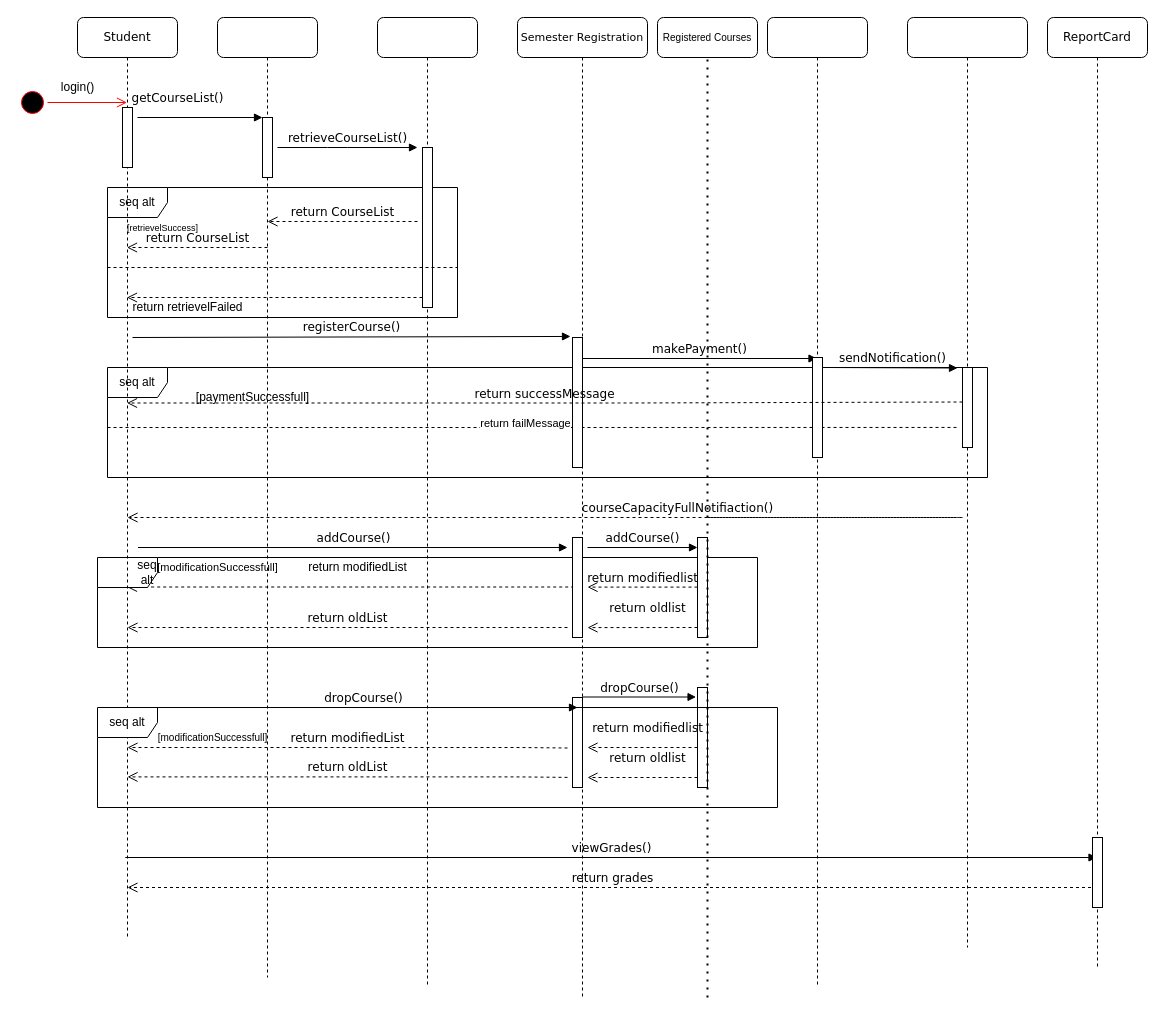
Some shapes in this 1165 by 1017 pixel diagram are drawn without their labels. Here are the shapes that lost their labels. From the top down, the box of each, then its label:
(216, 16, 318, 978): Courses
(376, 16, 478, 988): CourseCatalog
(766, 16, 868, 988): Billing System
(906, 16, 1028, 948): Notification System
